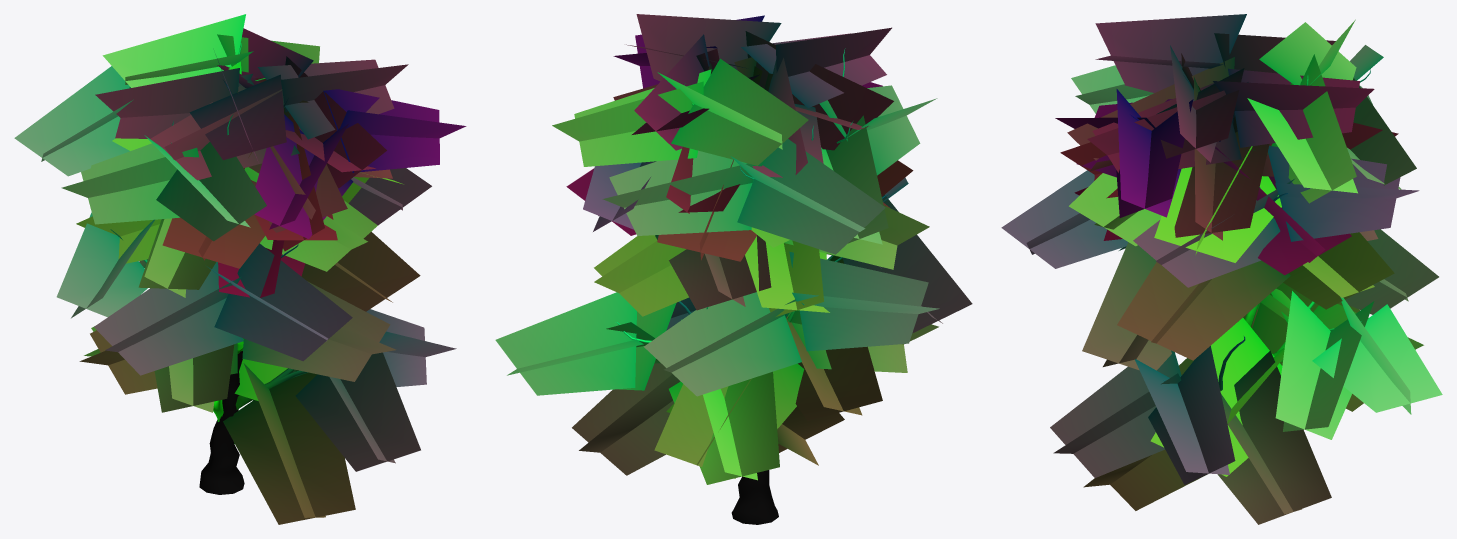
Rendered from M_Realistic7_8.fbx.
3 renders of one model, left to right at view 1: azimuth 30°, elevation 25°; view 2: azimuth 150°, elevation 25°; view 3: azimuth 270°, elevation 25°, orthographic. The views are drawn at different scales.
Parts seen in each view (by area): view 1: Tree_8; view 2: Tree_8; view 3: Tree_8.
Part boxes in pixels (left/top/right/bottom): Tree_8: left=14, top=14, right=466, bottom=524; Tree_8: left=495, top=14, right=972, bottom=524; Tree_8: left=1001, top=14, right=1442, bottom=524.
Size of the model in its own units: 1015 by 1166 by 1000.
